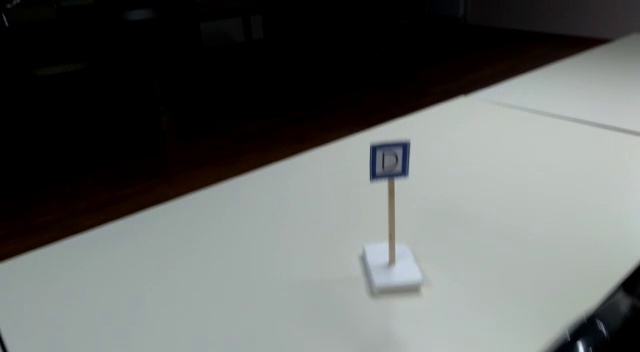durak: (372, 140, 407, 182)
